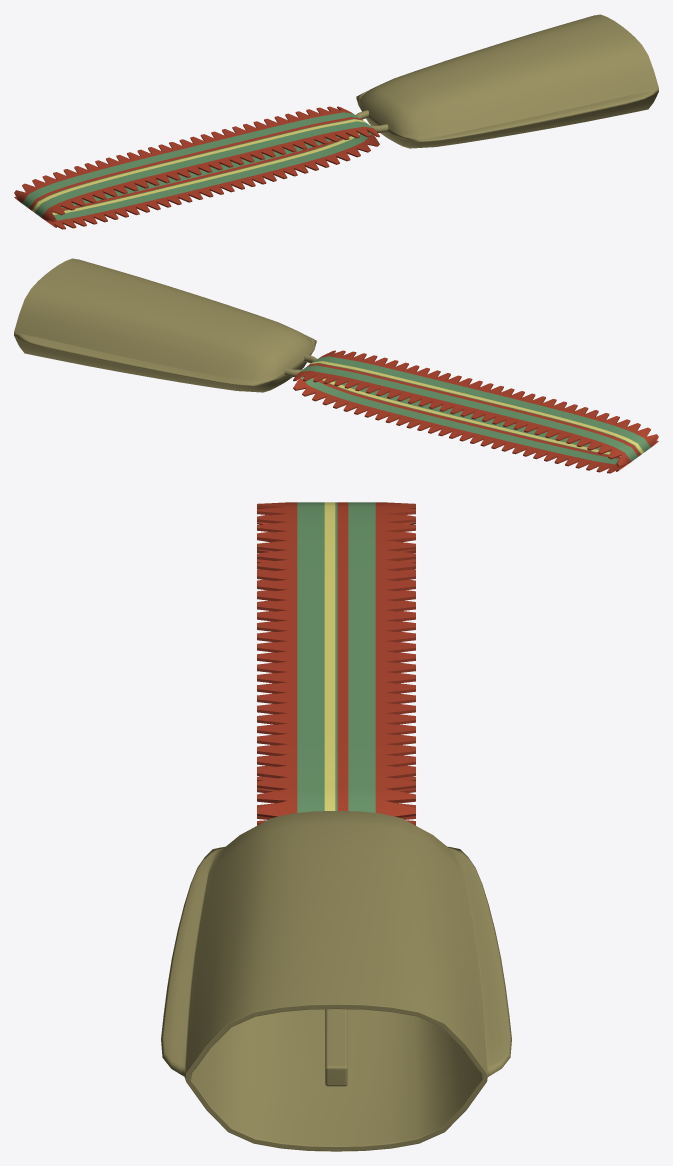
File: Bell.fbx
3 renders of one model, top to bottom at view 1: azimuth 30°, elevation 25°; view 2: azimuth 150°, elevation 25°; view 3: azimuth 270°, elevation 25°, orthographic. The views are drawn at different scales.
Parts seen in each view (by area): view 1: ball_model; view 2: ball_model; view 3: ball_model, dingdong.
Part boxes in pixels (box(x1,y1,x2,y2)): ball_model: box(14, 14, 658, 229); ball_model: box(14, 258, 658, 473); ball_model: box(161, 502, 511, 1151); dingdong: box(325, 1009, 347, 1086).
Bounding box in the file's own units: 35.83 × 4.28 × 9.24.
